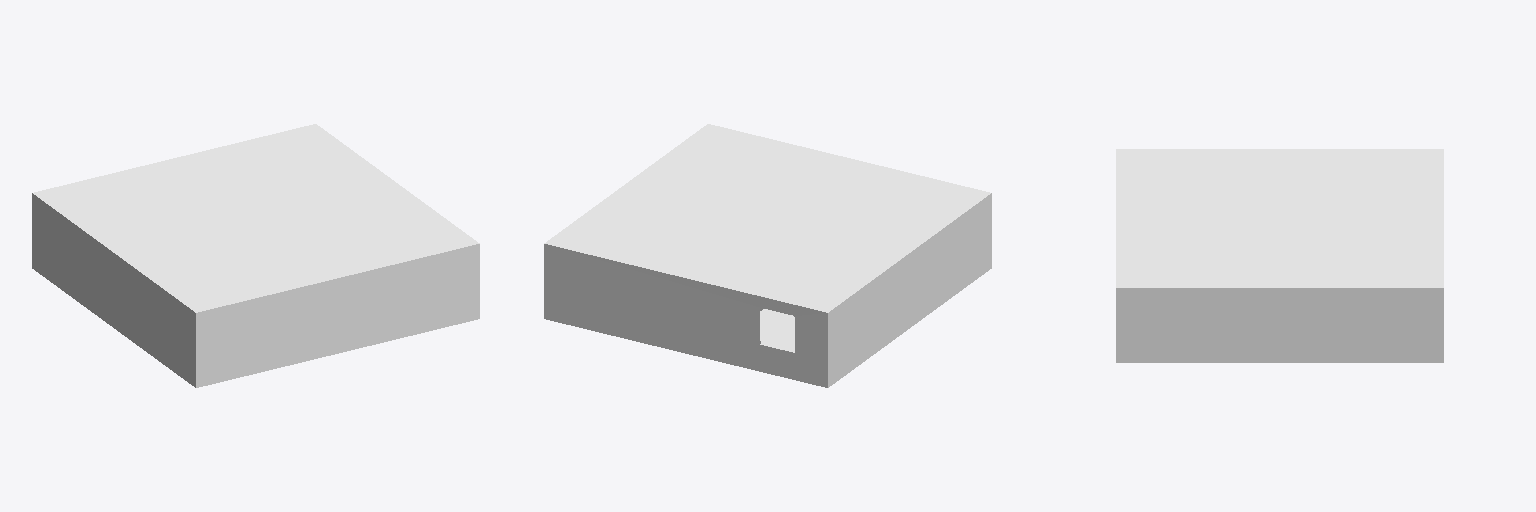
The model's file is interior.obj.
The picture shows the model from 3 angles: view 1: azimuth 30°, elevation 25°; view 2: azimuth 150°, elevation 25°; view 3: azimuth 270°, elevation 25°; orthographic projection.
Visible parts, largest first — view 1: interior.obj; view 2: interior.obj; view 3: interior.obj.
Boxes of the visible parts, x1,y1,x2,y2 form: interior.obj: [32, 124, 479, 387]; interior.obj: [544, 124, 991, 387]; interior.obj: [1116, 149, 1443, 362].
Size of the model in its own units: 40.2 by 10.2 by 40.2.